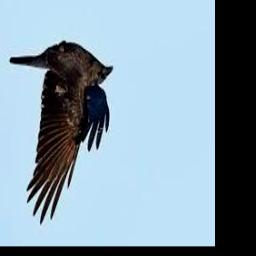Crow: (10, 42, 113, 224)
